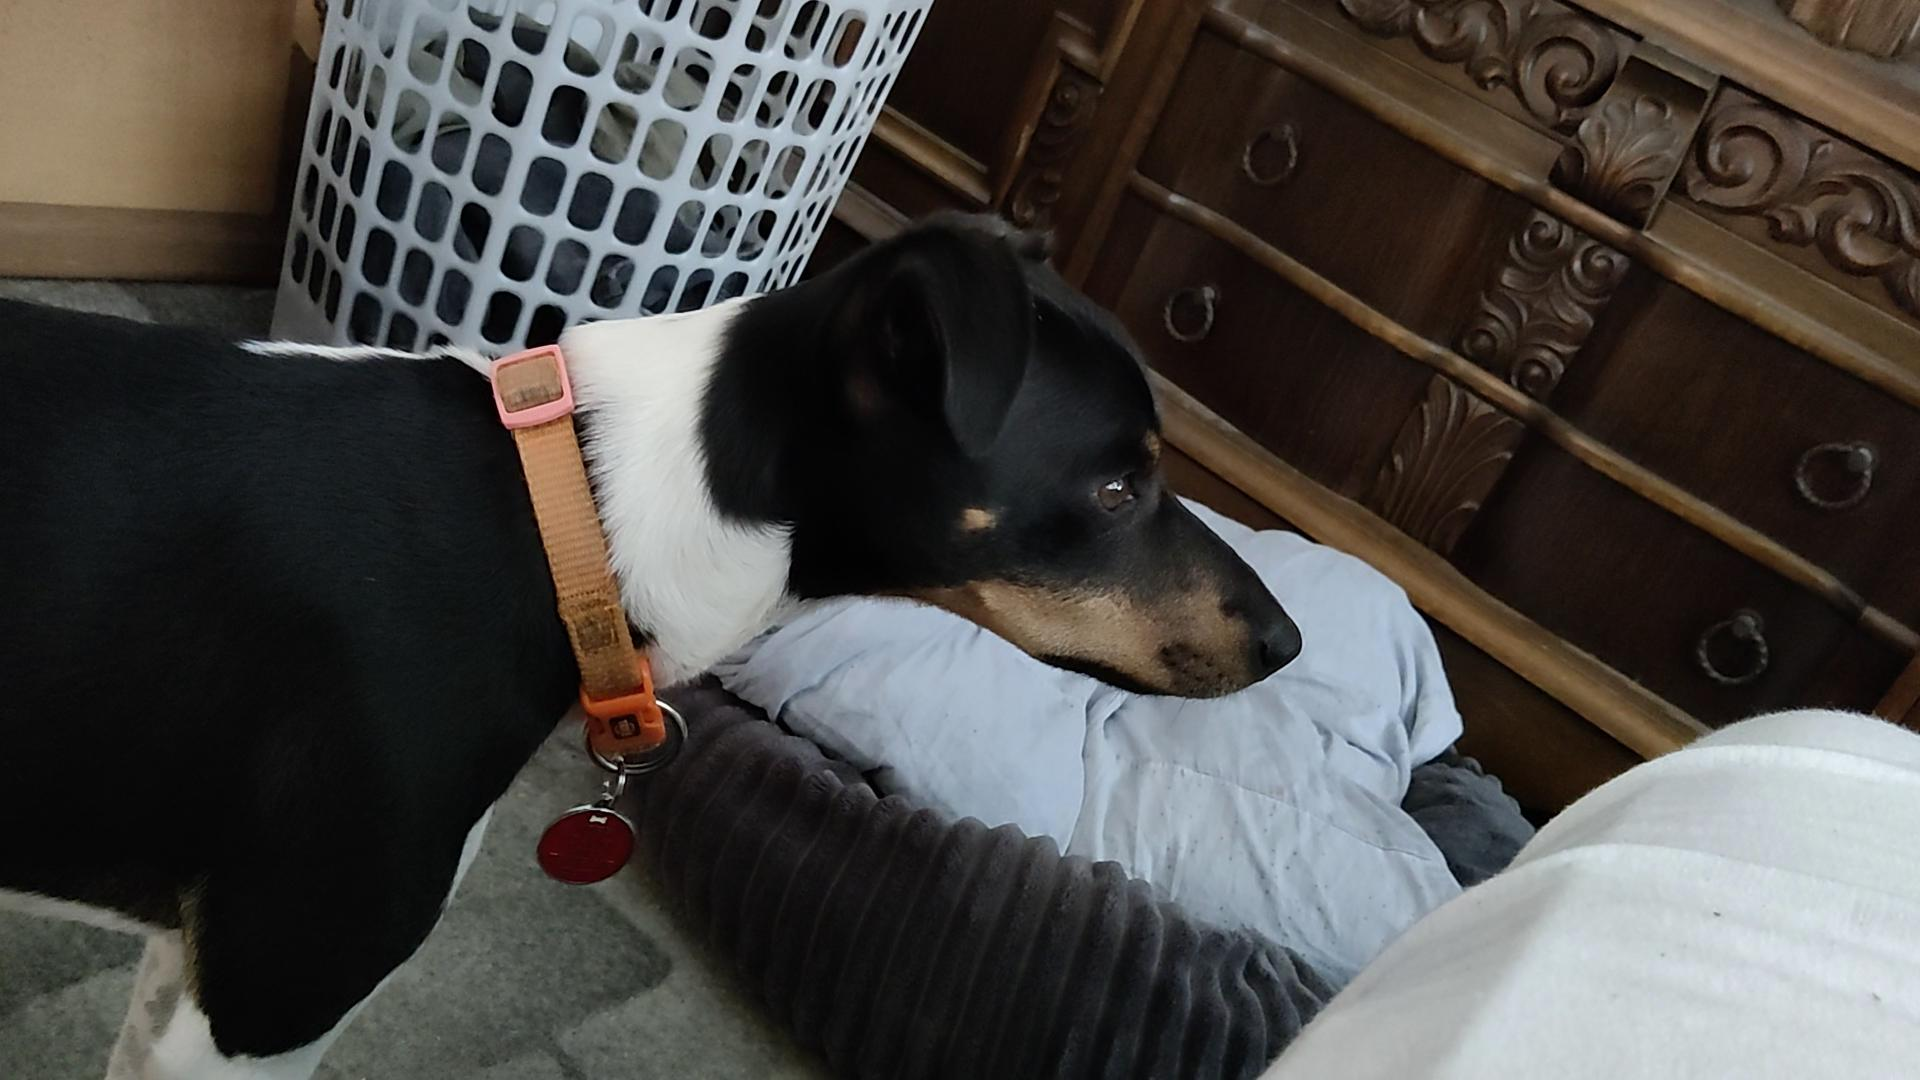Dog: (0, 204, 1311, 1079)
